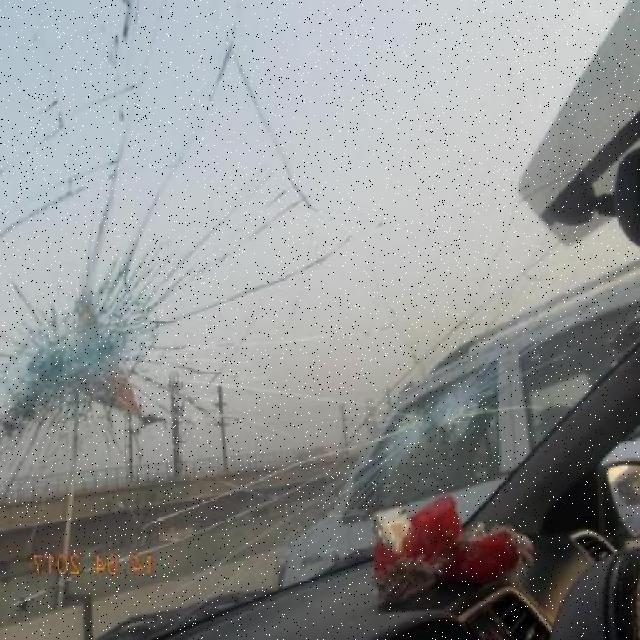damage: (24, 301, 144, 418), (406, 369, 487, 444)
